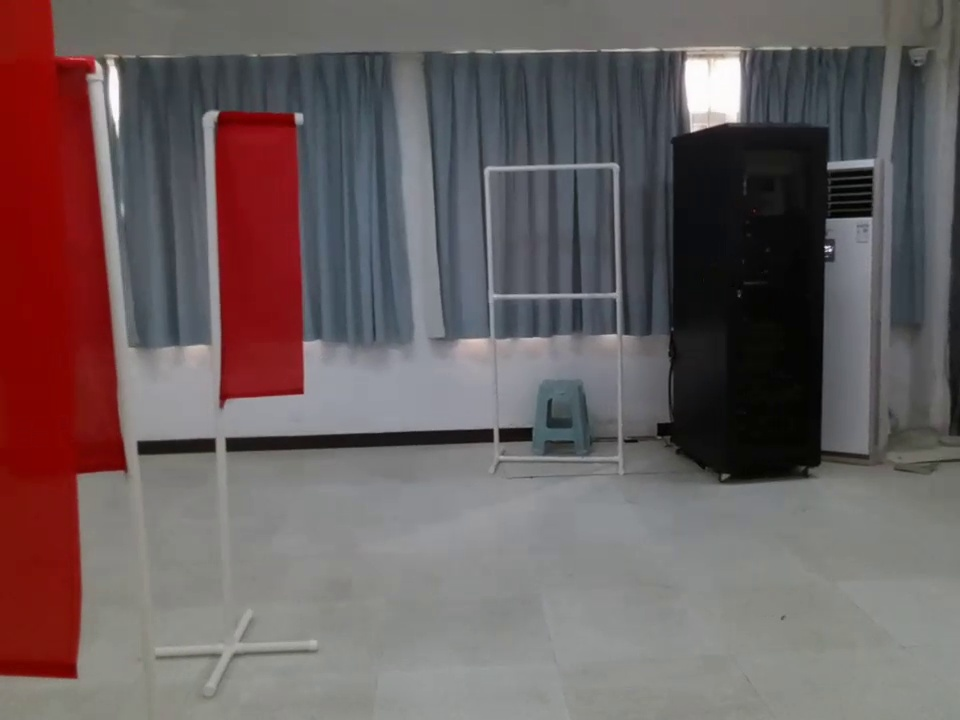qi: (194, 102, 322, 414)
